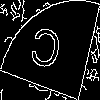C: (25, 25, 64, 80)
